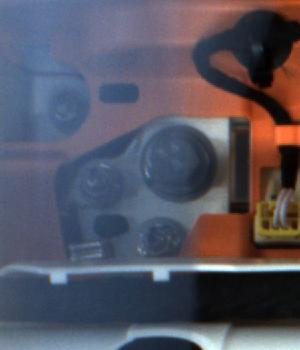nut_b: (134, 117, 225, 204)
